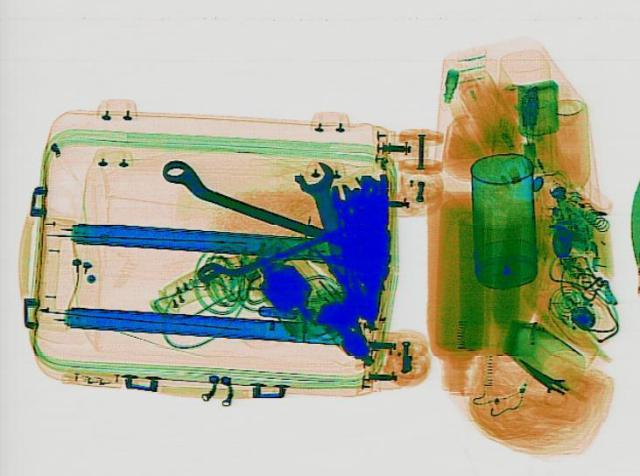Wrench: (150, 154, 342, 244), (190, 217, 330, 287), (290, 159, 360, 277)
